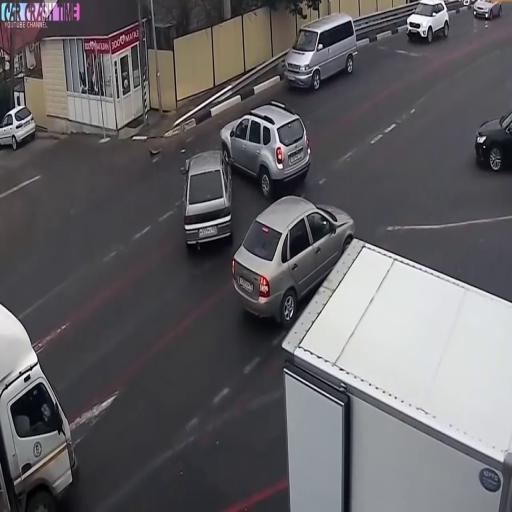小汽车: (232, 198, 353, 324), (0, 325, 78, 508), (285, 18, 359, 90), (471, 113, 512, 174), (403, 0, 451, 45), (0, 102, 39, 153)
小汽车撞小汽车: (184, 108, 303, 243)
